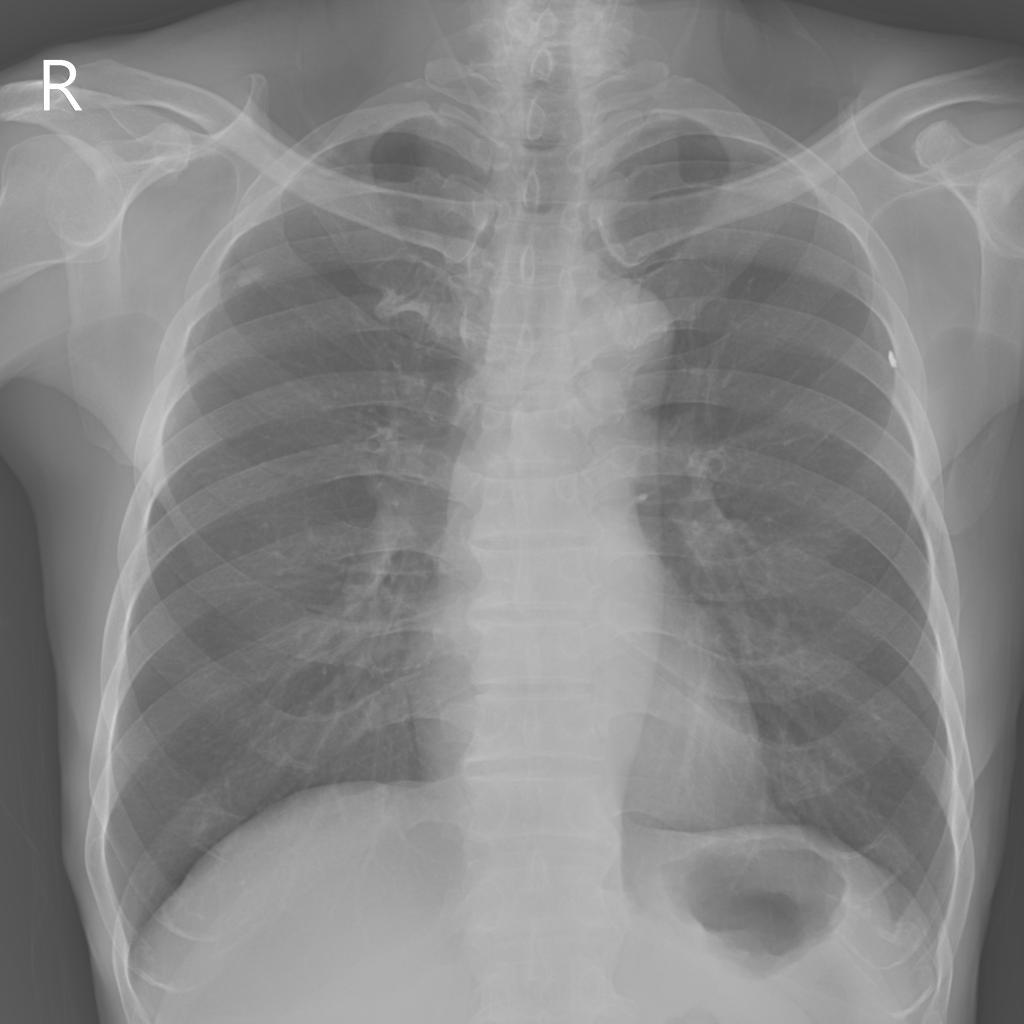Nodule: (236, 261, 272, 300)
